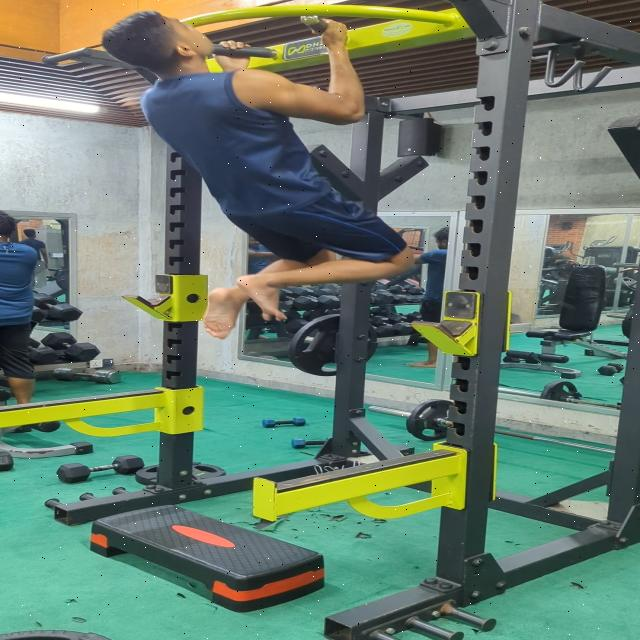Normal_PullUps: (95, 11, 426, 331)
